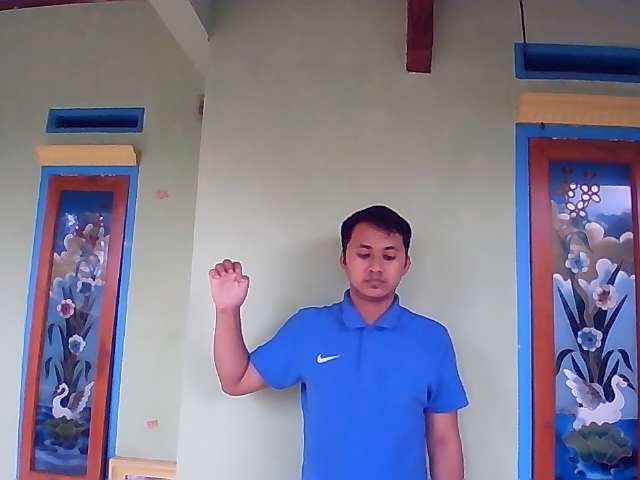E: (208, 258, 251, 309)
